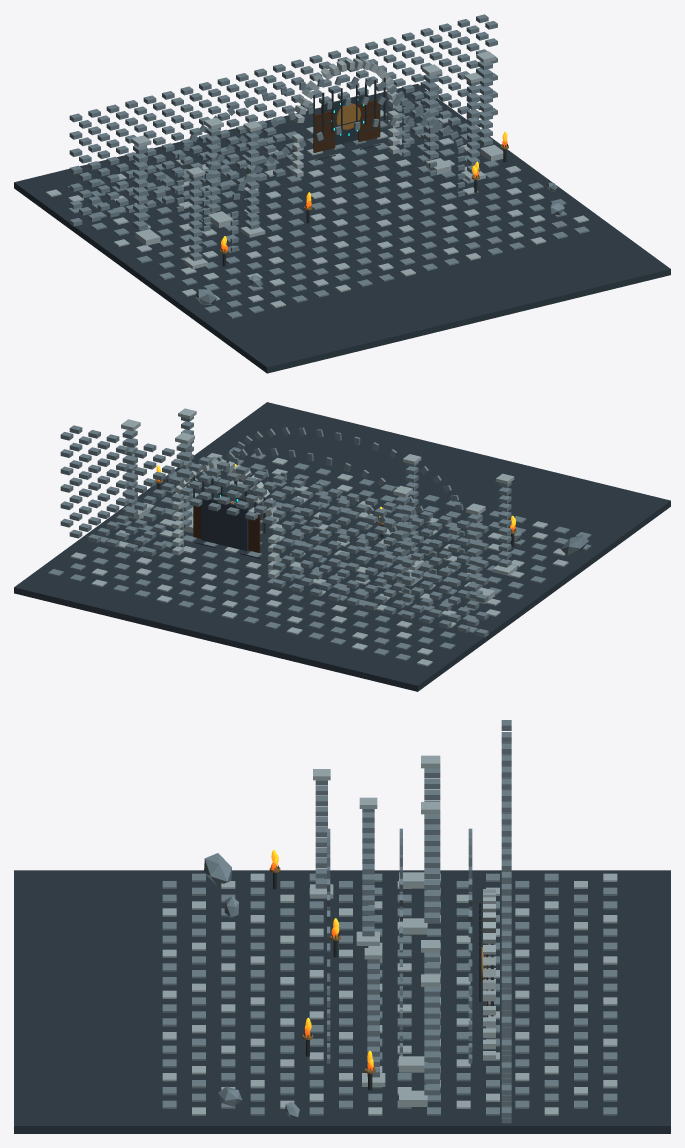
Rendered from dungeon_castle_hall.glb.
3 renders of one model, top to bottom at view 1: azimuth 30°, elevation 25°; view 2: azimuth 150°, elevation 25°; view 3: azimuth 270°, elevation 25°, orthographic. The views are drawn at different scales.
Parts seen in each view (by area): view 1: Undercroft foundation, Gate door leaf, Gate door leaf.001, Gate darkness; view 2: Undercroft foundation, Gate darkness, Gate door leaf; view 3: Undercroft foundation, Fallen castle masonry.
Part boxes in pixels (bbox=[...]): Undercroft foundation: bbox=[14, 84, 670, 373]; Gate door leaf: bbox=[313, 110, 335, 152]; Gate door leaf.001: bbox=[358, 99, 380, 141]; Gate darkness: bbox=[321, 94, 368, 145]; Undercroft foundation: bbox=[14, 402, 670, 691]; Gate darkness: bbox=[201, 498, 248, 551]; Gate door leaf: bbox=[248, 514, 260, 552]; Undercroft foundation: bbox=[14, 870, 670, 1133]; Fallen castle masonry: bbox=[204, 853, 231, 886].
Size of the model in its own units: 36.76 by 9.86 by 38.
